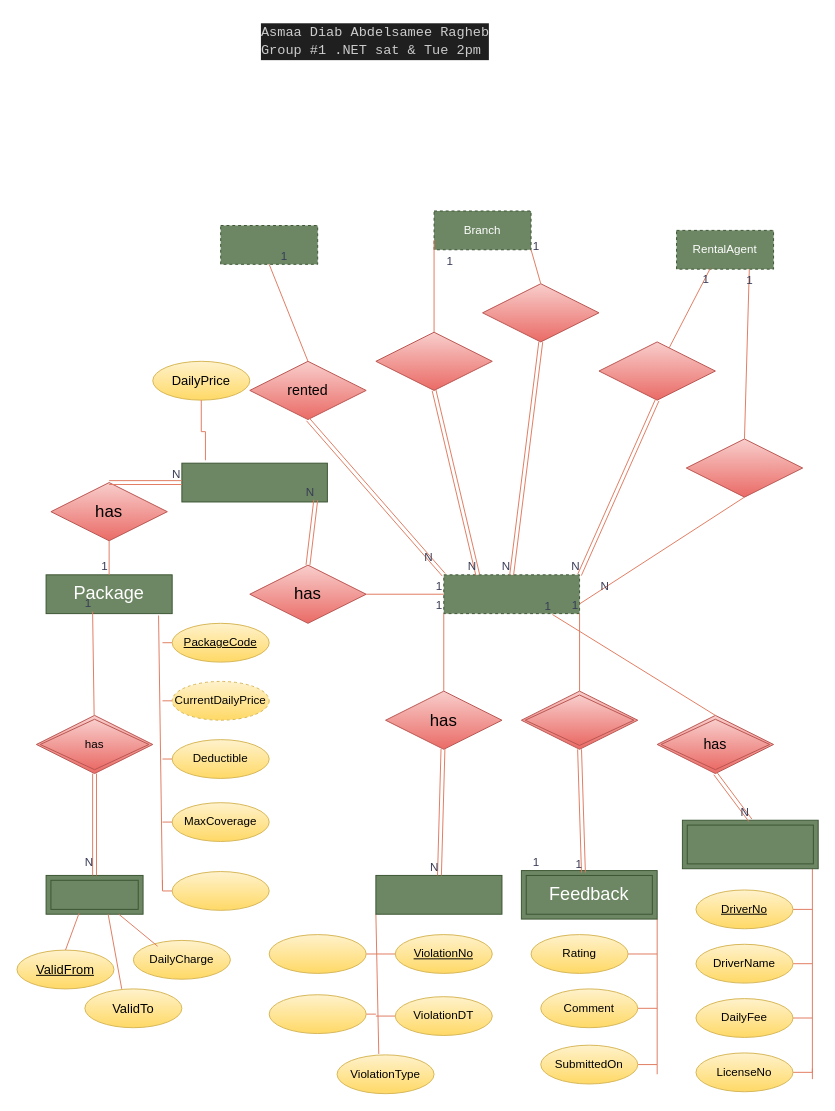
This 835x1111 diagram has some shape labels left out. Each missing label, with the box of its shape:
AdditionalDriver: (681, 819, 818, 869)
FineAmount: (268, 934, 366, 973)
handed over by: (598, 341, 715, 400)
InsurancePrice: (45, 874, 143, 914)
Location: (268, 994, 366, 1034)
p ickup: (482, 283, 599, 342)
PackageName: (171, 871, 269, 910)
received by: (685, 438, 803, 497)
receives: (520, 690, 638, 749)
Rental: (443, 574, 580, 614)
RentalInsurance: (181, 462, 327, 502)
return: (375, 331, 492, 390)
Tra ffi cViolation: (375, 874, 502, 914)
Vehicle: (220, 225, 318, 264)
